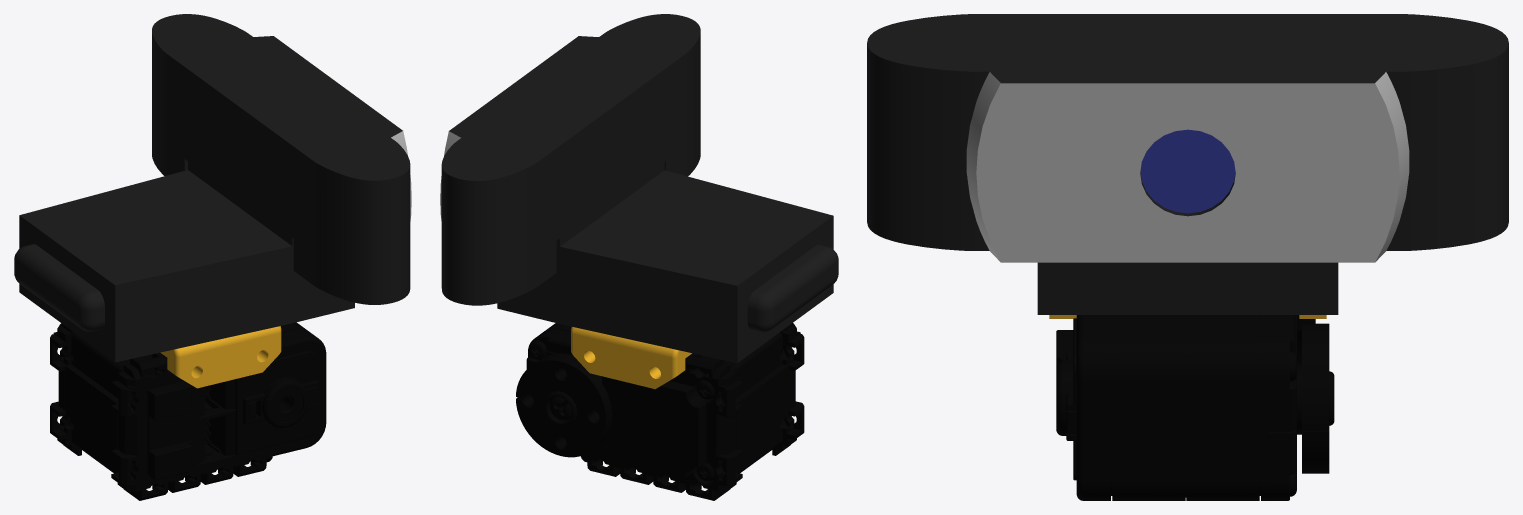
The model's file is head.dae.
3 views of the same model, side by side, from view 1: azimuth 30°, elevation 25°; view 2: azimuth 150°, elevation 25°; view 3: azimuth 270°, elevation 25° (orthographic). The views are drawn at different scales.
Visible parts, largest first — view 1: Body1_Plastic_-_Glossy_(Black), Body1 (×2); view 2: Body1_Plastic_-_Glossy_(Black), Body1 (×3); view 3: Body1_Plastic_-_Glossy_(Black), Body1_Plastic_-_Glossy_(Grey), Body1 (×2), Body1_Plastic_-_Glossy_(Blue).
Part boxes in pixels (left/top/right/bottom): Body1_Plastic_-_Glossy_(Black): left=14, top=14, right=410, bottom=362; Body1 (×2): left=50, top=322, right=326, bottom=500; Body1_Plastic_-_Glossy_(Black): left=441, top=14, right=838, bottom=363; Body1 (×3): left=516, top=323, right=804, bottom=500; Body1_Plastic_-_Glossy_(Black): left=867, top=14, right=1508, bottom=314; Body1_Plastic_-_Glossy_(Grey): left=966, top=72, right=1409, bottom=262; Body1 (×2): left=1056, top=315, right=1334, bottom=500; Body1_Plastic_-_Glossy_(Blue): left=1140, top=129, right=1235, bottom=213.
Size of the model in its own units: 0.0712 by 0.094 by 0.0779.
